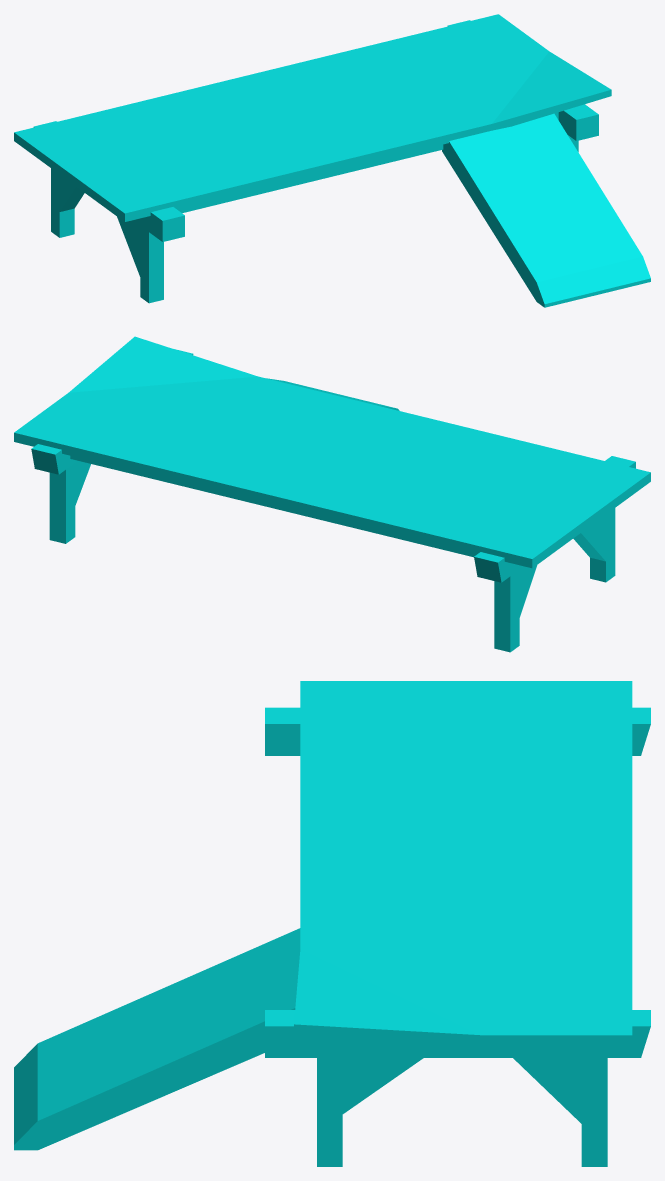
The model's file is SM_Prop_Stage_Wooden_01_Collision.fbx.
3 views of the same model, one above another, from view 1: azimuth 30°, elevation 25°; view 2: azimuth 150°, elevation 25°; view 3: azimuth 270°, elevation 25° (orthographic). The views are drawn at different scales.
Parts seen in each view (by area): view 1: SM_Prop_Stage_Wooden_01_Collision; view 2: SM_Prop_Stage_Wooden_01_Collision; view 3: SM_Prop_Stage_Wooden_01_Collision.
Part boxes in pixels (box(x1,y1,x2,y2)): SM_Prop_Stage_Wooden_01_Collision: box(14, 14, 650, 307); SM_Prop_Stage_Wooden_01_Collision: box(14, 336, 650, 652); SM_Prop_Stage_Wooden_01_Collision: box(14, 681, 650, 1166).
Bounding box in the file's own units: 750 × 164 × 570.
